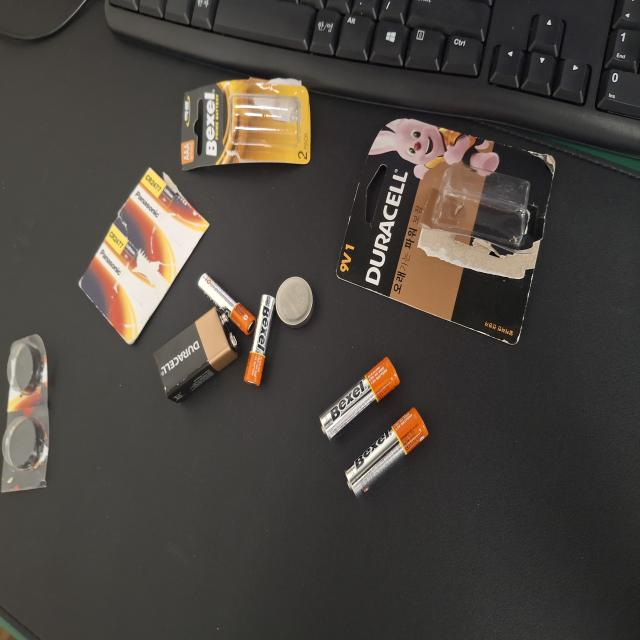9V: (231, 536, 301, 640)
AA: (306, 282, 372, 393), (268, 321, 330, 427)
AAA: (205, 512, 251, 590), (221, 487, 289, 528)
COIN: (207, 435, 245, 486)
